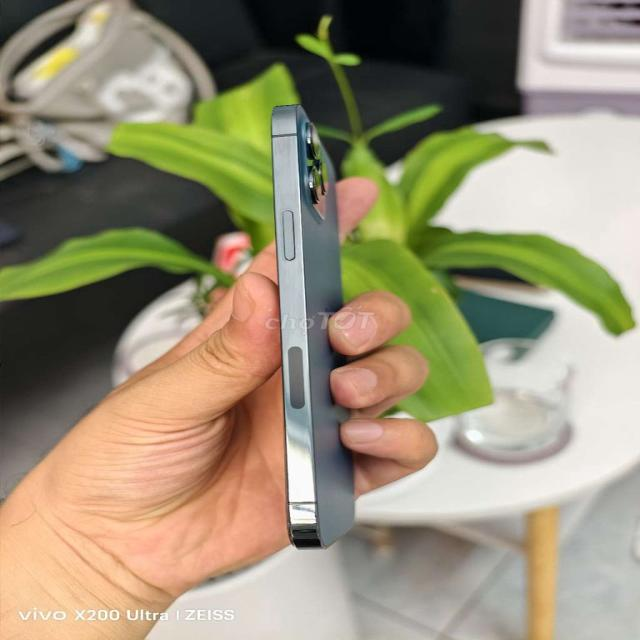gen_12_13: (260, 99, 371, 564)
